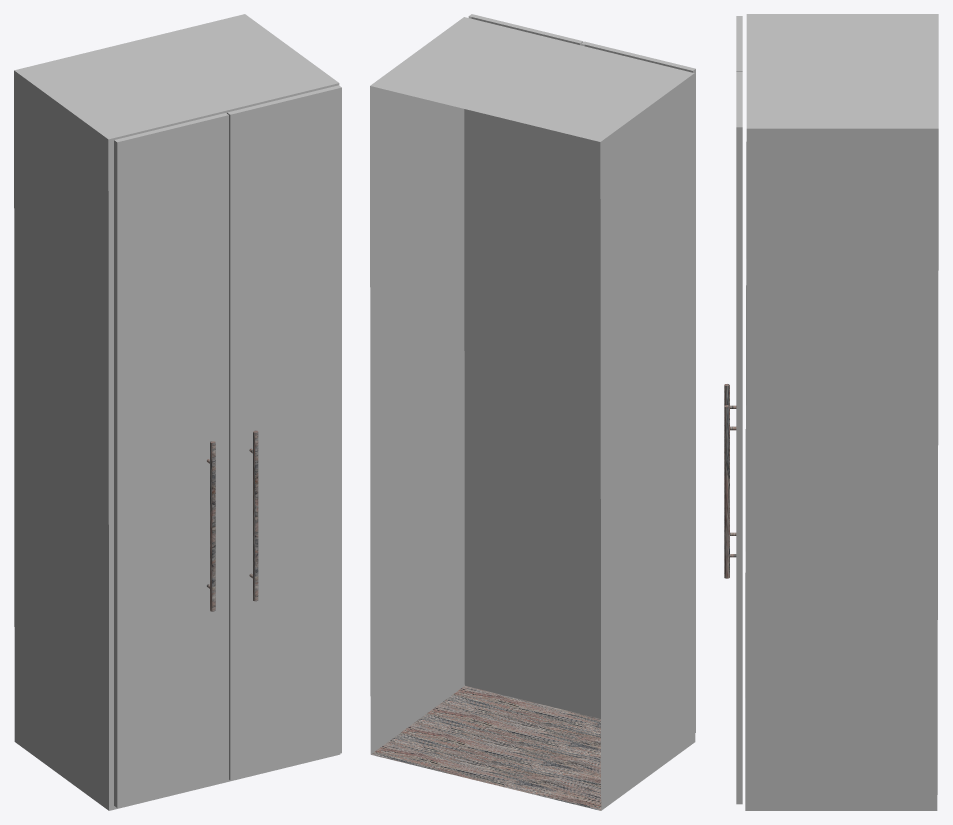
File: Prop_Cupboard.FBX
The picture shows the model from 3 angles, left to right: view 1: azimuth 30°, elevation 25°; view 2: azimuth 150°, elevation 25°; view 3: azimuth 270°, elevation 25°; orthographic projection.
Visible parts, largest first — view 1: SM_Kitchen_Tall_003; view 2: SM_Kitchen_Tall_003; view 3: SM_Kitchen_Tall_003.
Boxes of the visible parts, x1=… form: SM_Kitchen_Tall_003: x1=14, y1=14, x2=341, y2=810; SM_Kitchen_Tall_003: x1=370, y1=14, x2=695, y2=810; SM_Kitchen_Tall_003: x1=724, y1=14, x2=938, y2=810.
Size of the model in its own units: 1.08 by 2.99 by 0.8513.
